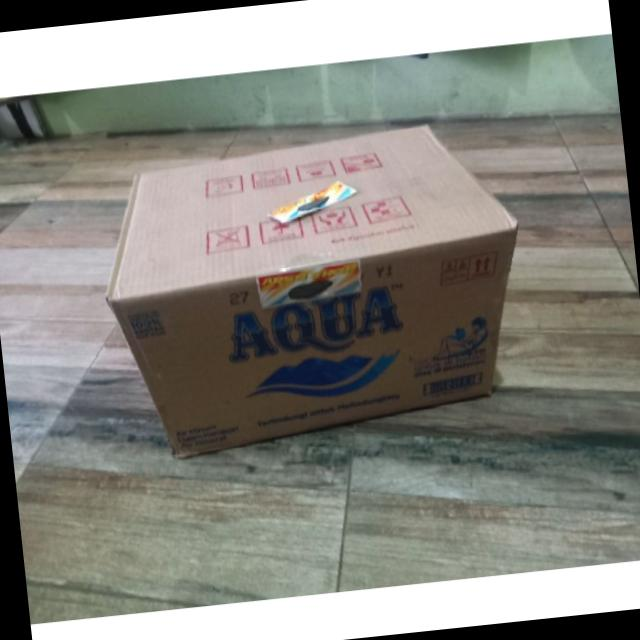Kardus: (86, 116, 536, 468)
